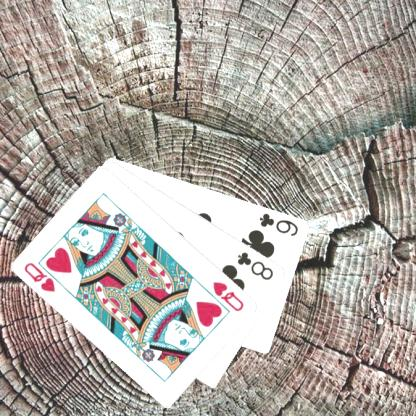6C: (257, 210, 300, 238)
8C: (235, 249, 275, 281)
QH: (22, 258, 67, 294), (210, 278, 246, 313)
